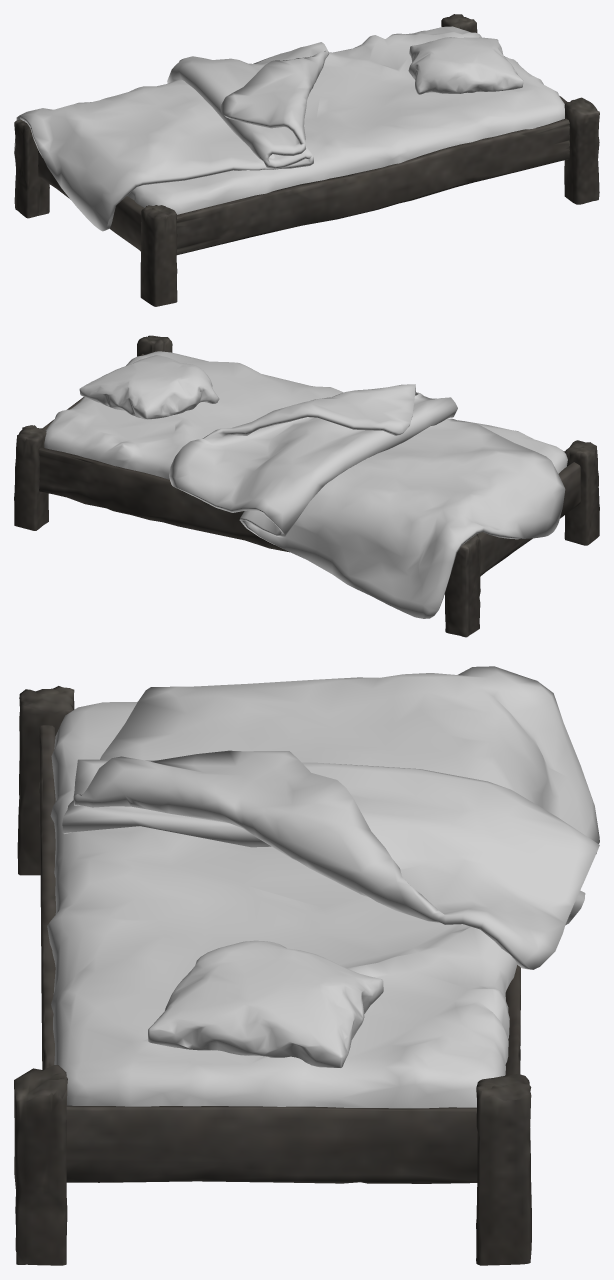
The model's file is Bed_01.fbx.
3 renders of one model, top to bottom at view 1: azimuth 30°, elevation 25°; view 2: azimuth 150°, elevation 25°; view 3: azimuth 270°, elevation 25°, orthographic. The views are drawn at different scales.
Visible parts, largest first — view 1: Bed_01_Cloth, Bed_01_Wood; view 2: Bed_01_Cloth, Bed_01_Wood; view 3: Bed_01_Cloth, Bed_01_Wood.
Boxes of the visible parts, x1=… form: Bed_01_Cloth: x1=14, y1=26, x2=564, y2=231; Bed_01_Wood: x1=14, y1=14, x2=599, y2=306; Bed_01_Cloth: x1=44, y1=351, x2=567, y2=618; Bed_01_Wood: x1=14, y1=335, x2=599, y2=637; Bed_01_Cloth: x1=47, y1=666, x2=599, y2=1108; Bed_01_Wood: x1=14, y1=686, x2=531, y2=1265.
Size of what is drawn, in the model's own units: 254 by 71.46 by 149.
